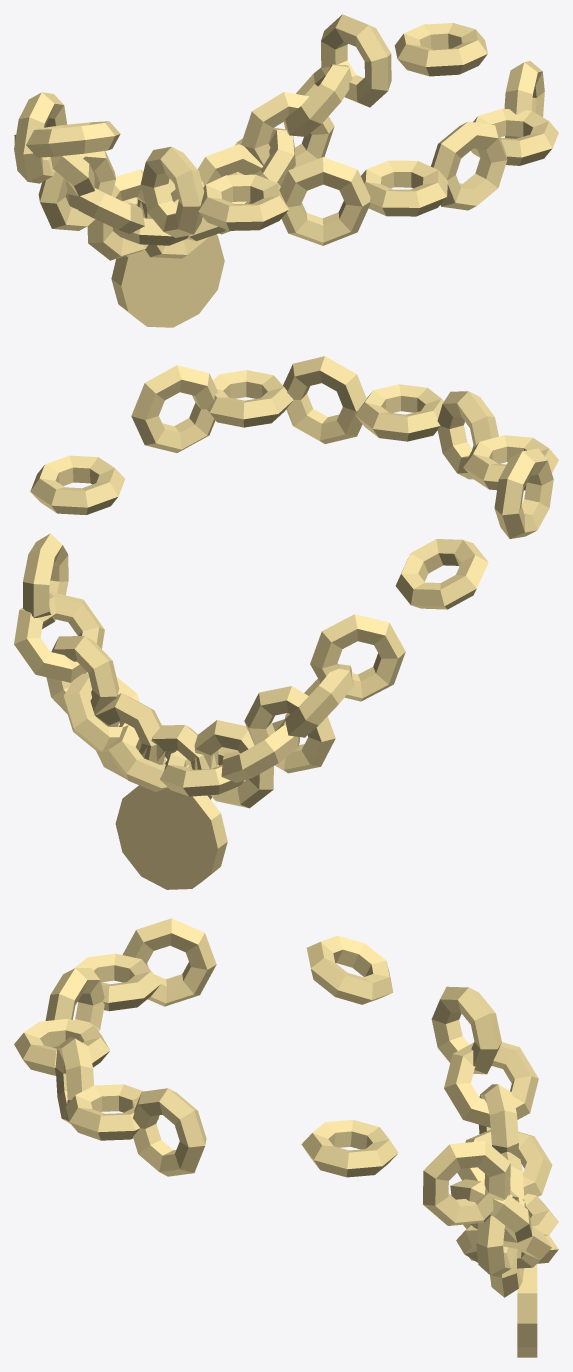
Rendered from neck_gold_chain.glb.
3 views of the same model, one above another, from view 1: azimuth 30°, elevation 25°; view 2: azimuth 150°, elevation 25°; view 3: azimuth 270°, elevation 25° (orthographic).
Parts seen in each view (by area): view 1: Torso; view 2: Torso; view 3: Torso.
Part boxes in pixels (box(x1,y1,x2,y2)): Torso: box(14, 14, 558, 327); Torso: box(14, 356, 558, 889); Torso: box(14, 918, 558, 1357).
Bounding box in the file's own units: 0.3928 × 0.292 × 0.4131.
